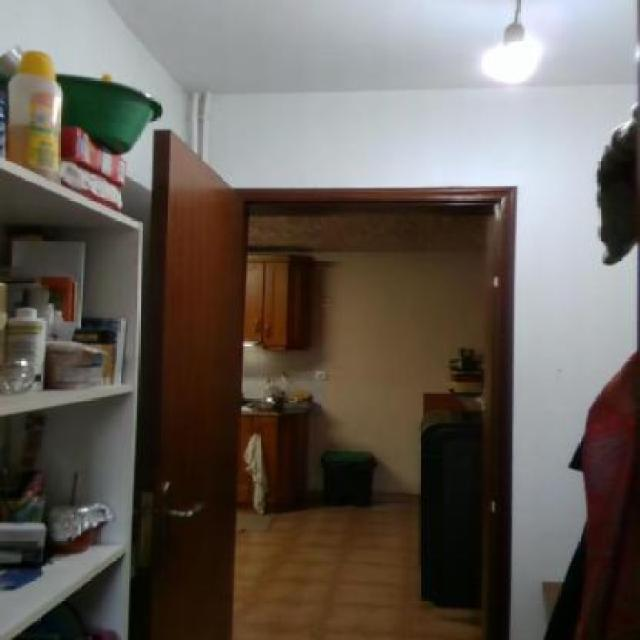door_handle: (159, 501, 226, 523)
